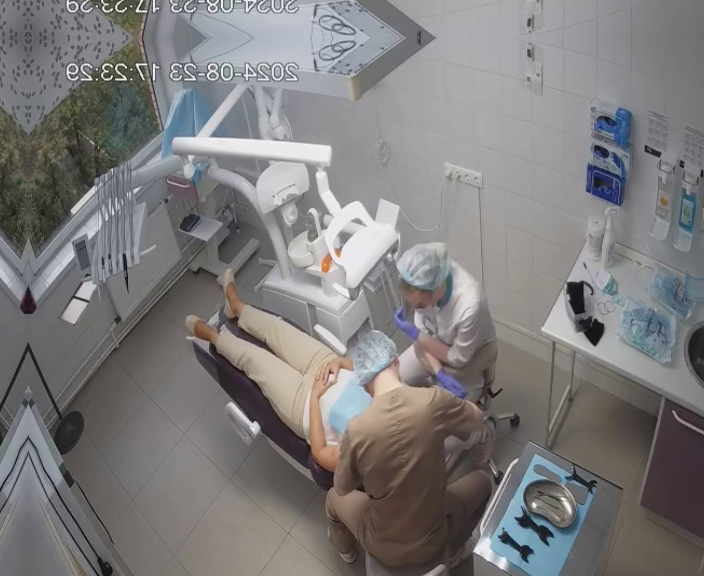Patient: (185, 268, 479, 491)
